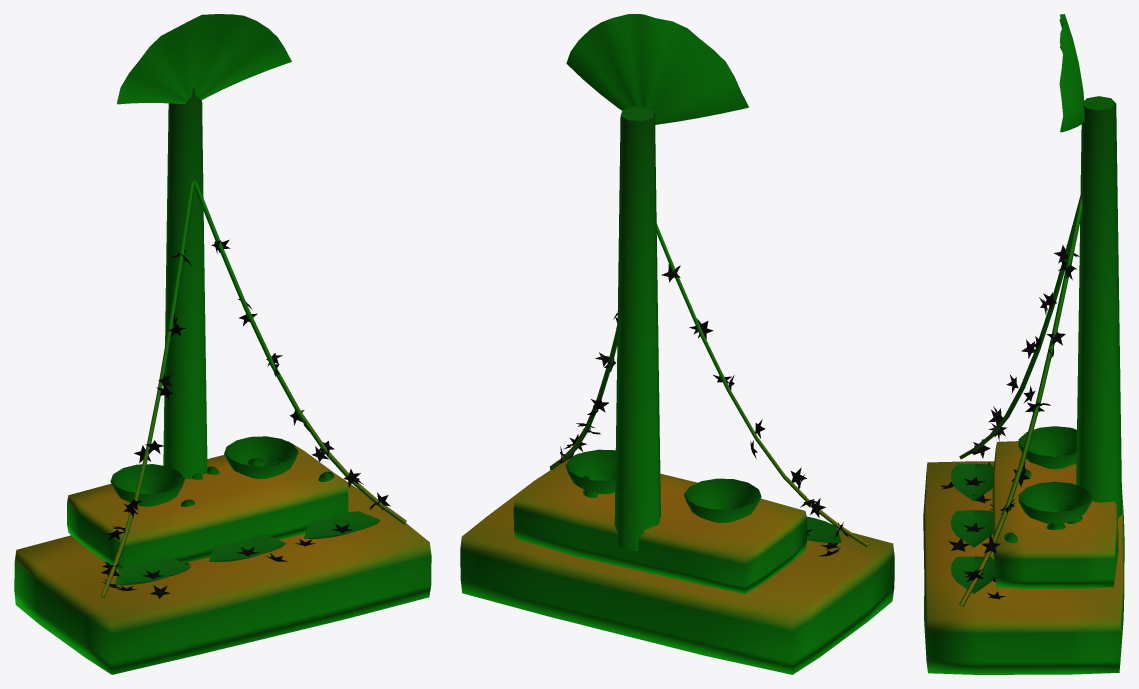
Rendered from wayside_offering.glb.
The picture shows the model from 3 angles, left to right: view 1: azimuth 30°, elevation 25°; view 2: azimuth 150°, elevation 25°; view 3: azimuth 270°, elevation 25°; orthographic projection. The views are drawn at different scales.
Visible parts, largest first — view 1: wayside_offering; view 2: wayside_offering; view 3: wayside_offering.
Boxes of the visible parts, <box> form: wayside_offering: <box>14,14,431,674</box>; wayside_offering: <box>460,14,894,674</box>; wayside_offering: <box>923,14,1124,674</box>.
Size of what is drawn, in the model's own units: 1.2 by 2.03 by 0.644.
